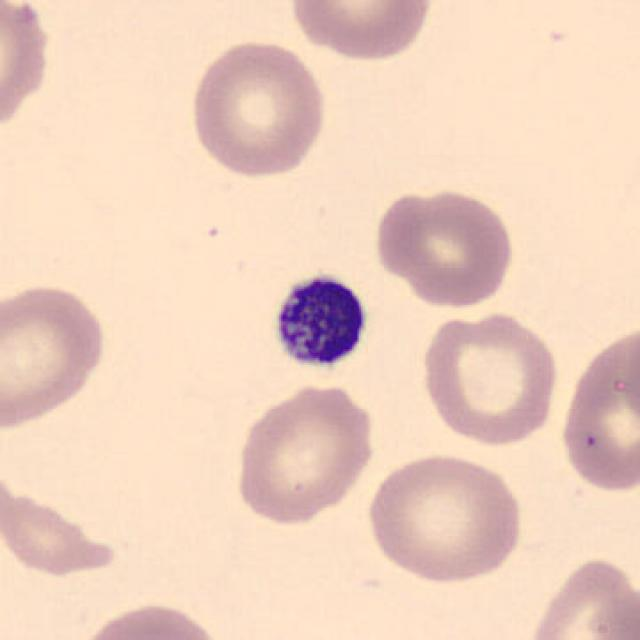Platelets: (261, 264, 377, 381)
RBC: (363, 450, 526, 587), (231, 379, 379, 527), (185, 35, 331, 180), (416, 307, 562, 448), (372, 184, 518, 308), (0, 279, 110, 432), (554, 320, 640, 495), (521, 552, 638, 640), (286, 0, 437, 63), (0, 0, 55, 143), (73, 597, 226, 640), (587, 578, 638, 640)
